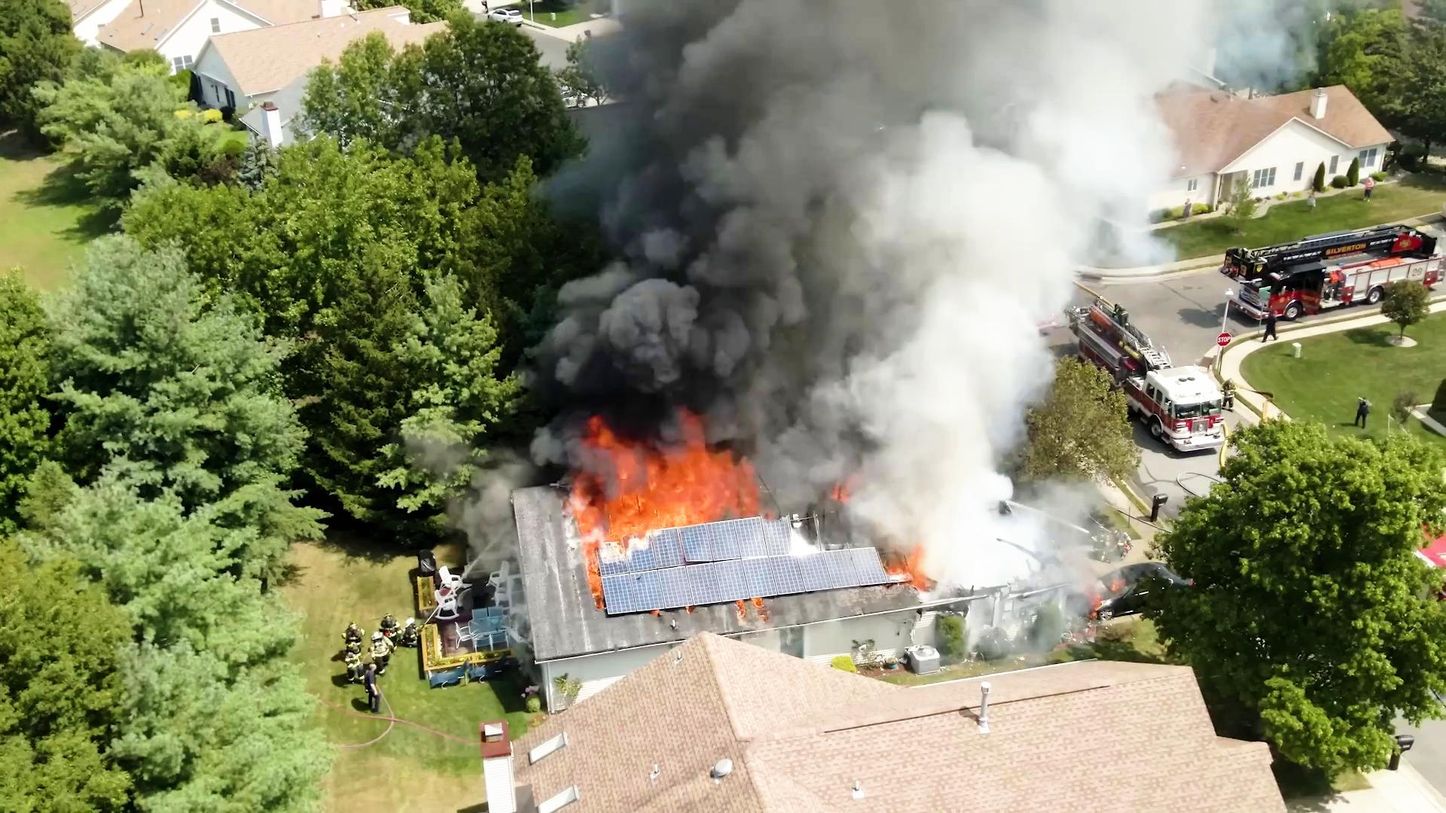fire: (551, 384, 780, 548)
smoke: (539, 26, 915, 369), (872, 160, 996, 508)
